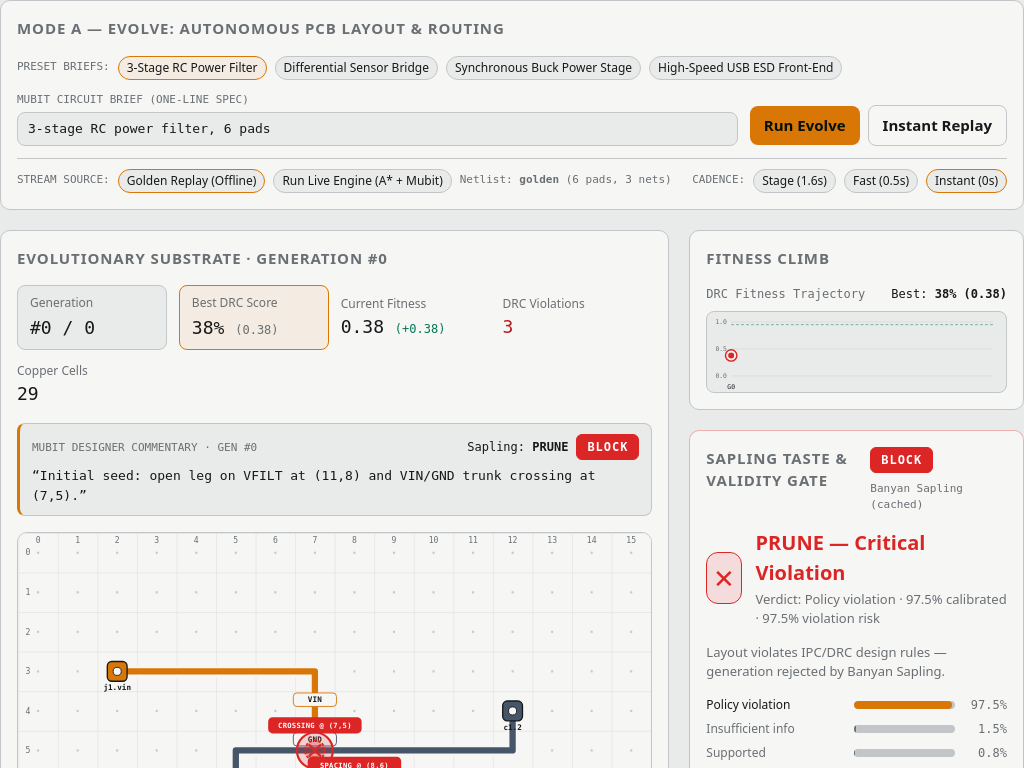
Test: Lane 2 — foundry/ui › EvolveView › animates an arbitrary injected AsyncIterable<Generation> via streamFactory
This screenshot has width=1024, height=768.
What coordinates should you click on to do the following:
click the button "Run Evolve"
I would click on:
 (805, 125)
Its box is [750,106,860,144].
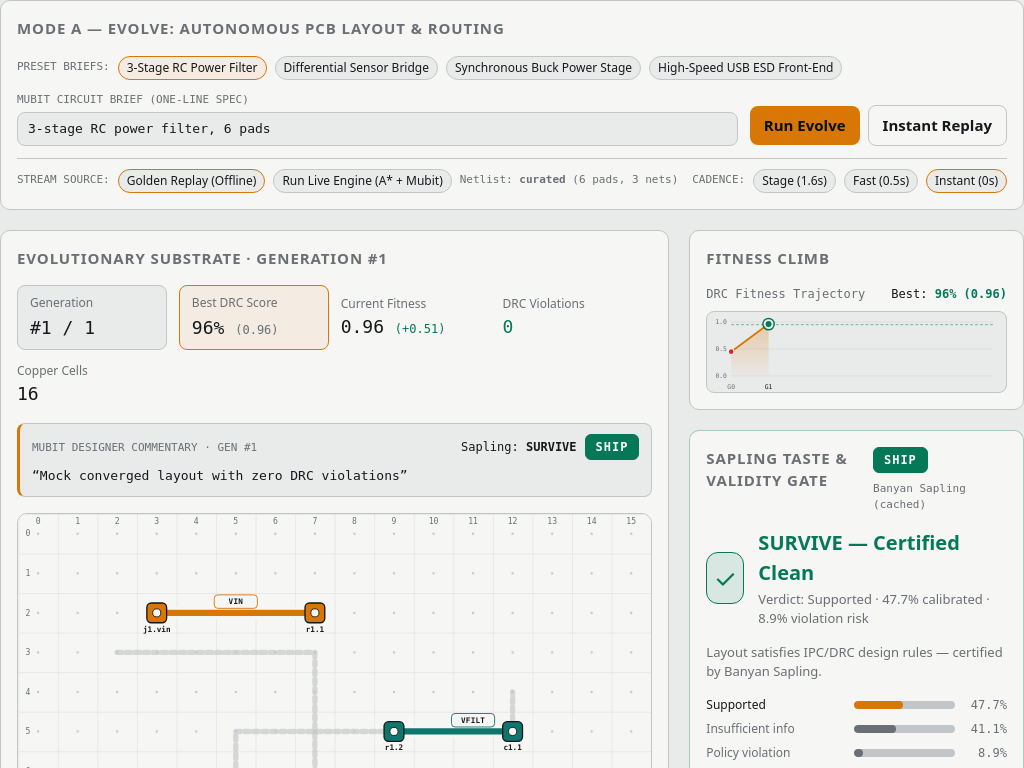
Check: the text with test id "evolve-active-note" shows "Mock converged layout with zero DRC violations", box [40,468,400,483]
Check: the element with test id "evolve-best-score" shows "96%", box [192,317,279,338]
